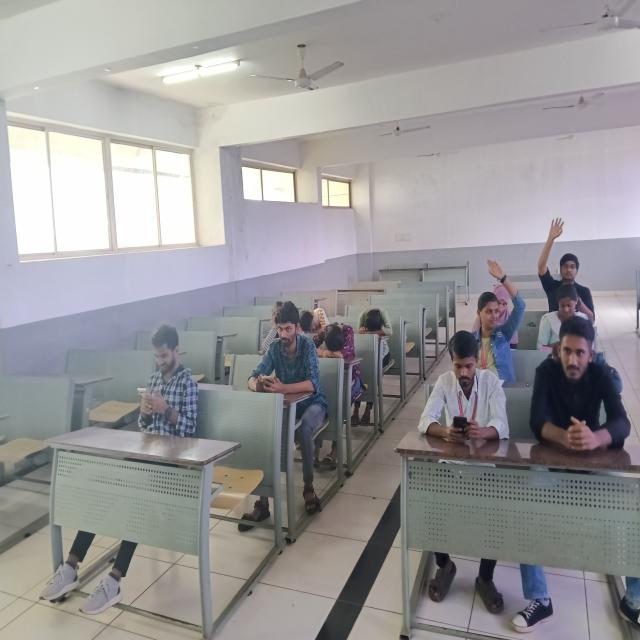Hand Rising: (458, 254, 532, 378), (531, 211, 603, 316)
Sleeping: (311, 306, 365, 373), (352, 295, 404, 351)
Using Phone: (119, 308, 222, 464), (414, 326, 518, 446), (248, 295, 320, 414)
